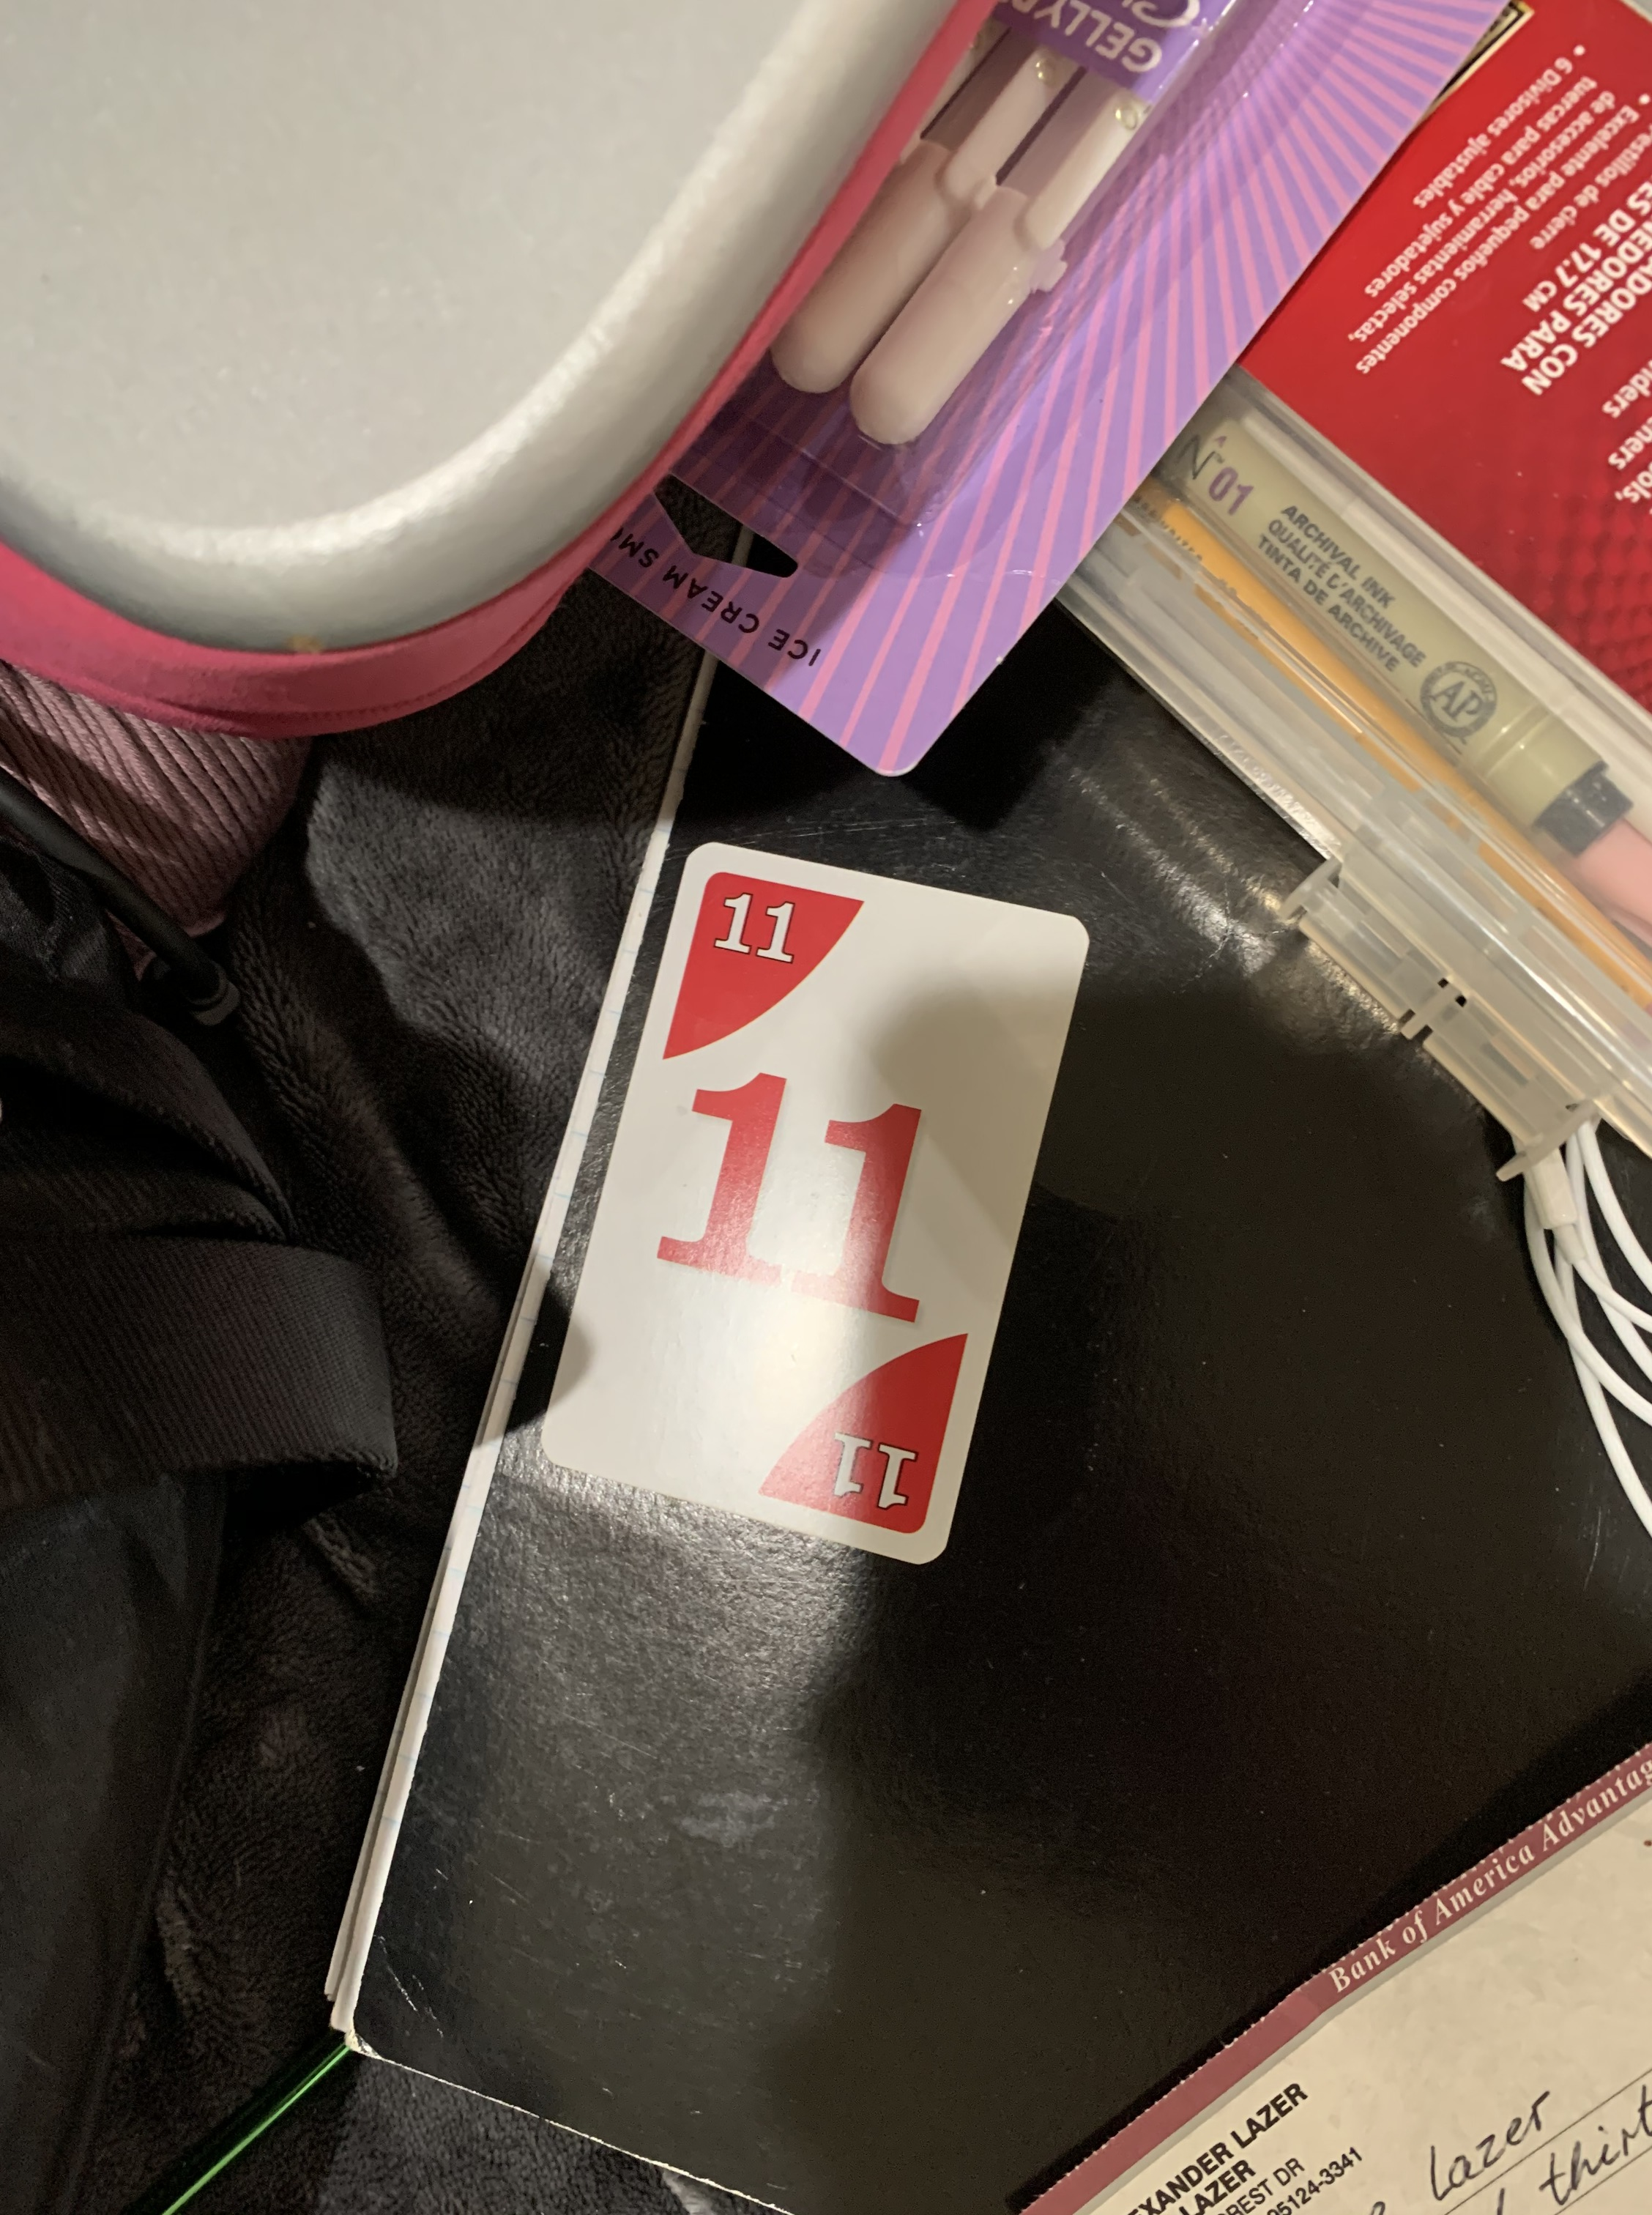eleven: (534, 835, 1105, 1581)
